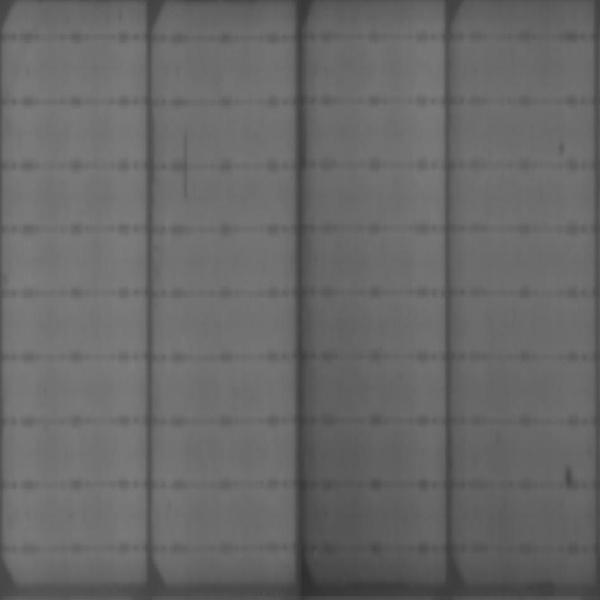scratch: (178, 130, 194, 197)
